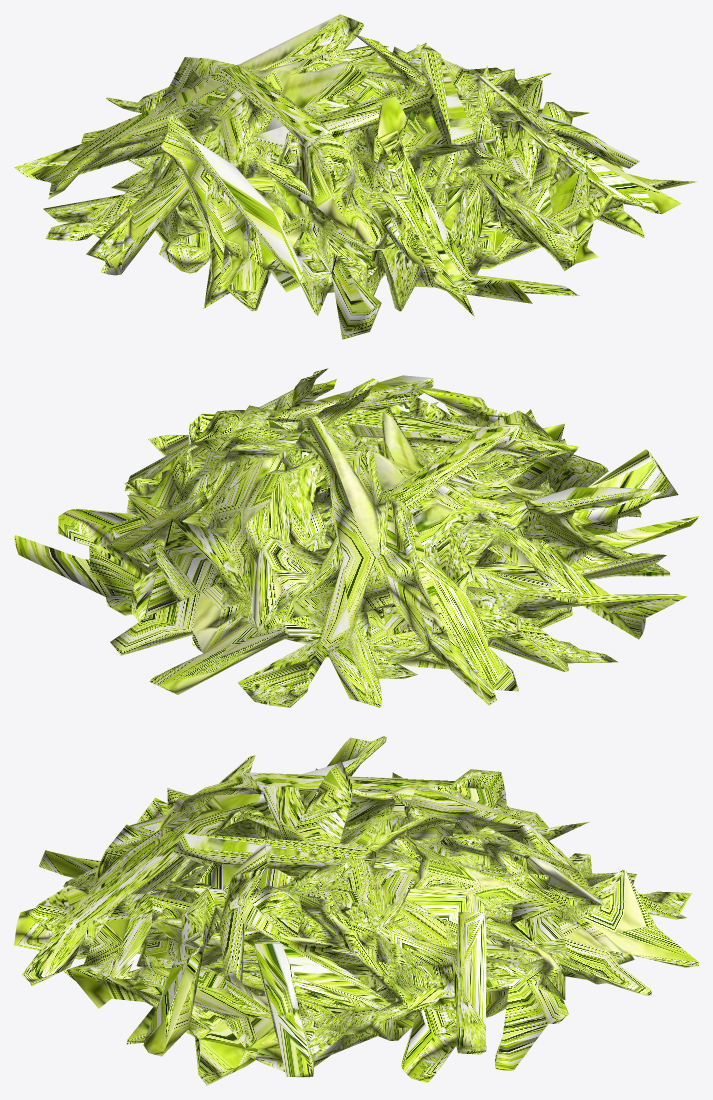
Rendered from chow-cabbage.glb.
The picture shows the model from 3 angles, top to bottom: view 1: azimuth 30°, elevation 25°; view 2: azimuth 150°, elevation 25°; view 3: azimuth 270°, elevation 25°; orthographic projection. The views are drawn at different scales.
Parts seen in each view (by area): view 1: mesh; view 2: mesh; view 3: mesh.
Boxes of the visible parts, bbox=[...] form: mesh: bbox=[14, 14, 697, 339]; mesh: bbox=[14, 368, 698, 707]; mesh: bbox=[14, 736, 698, 1085].
Size of the model in its own units: 1.99 by 0.6175 by 1.99.
Materials: 1 (1 with a texture image).
